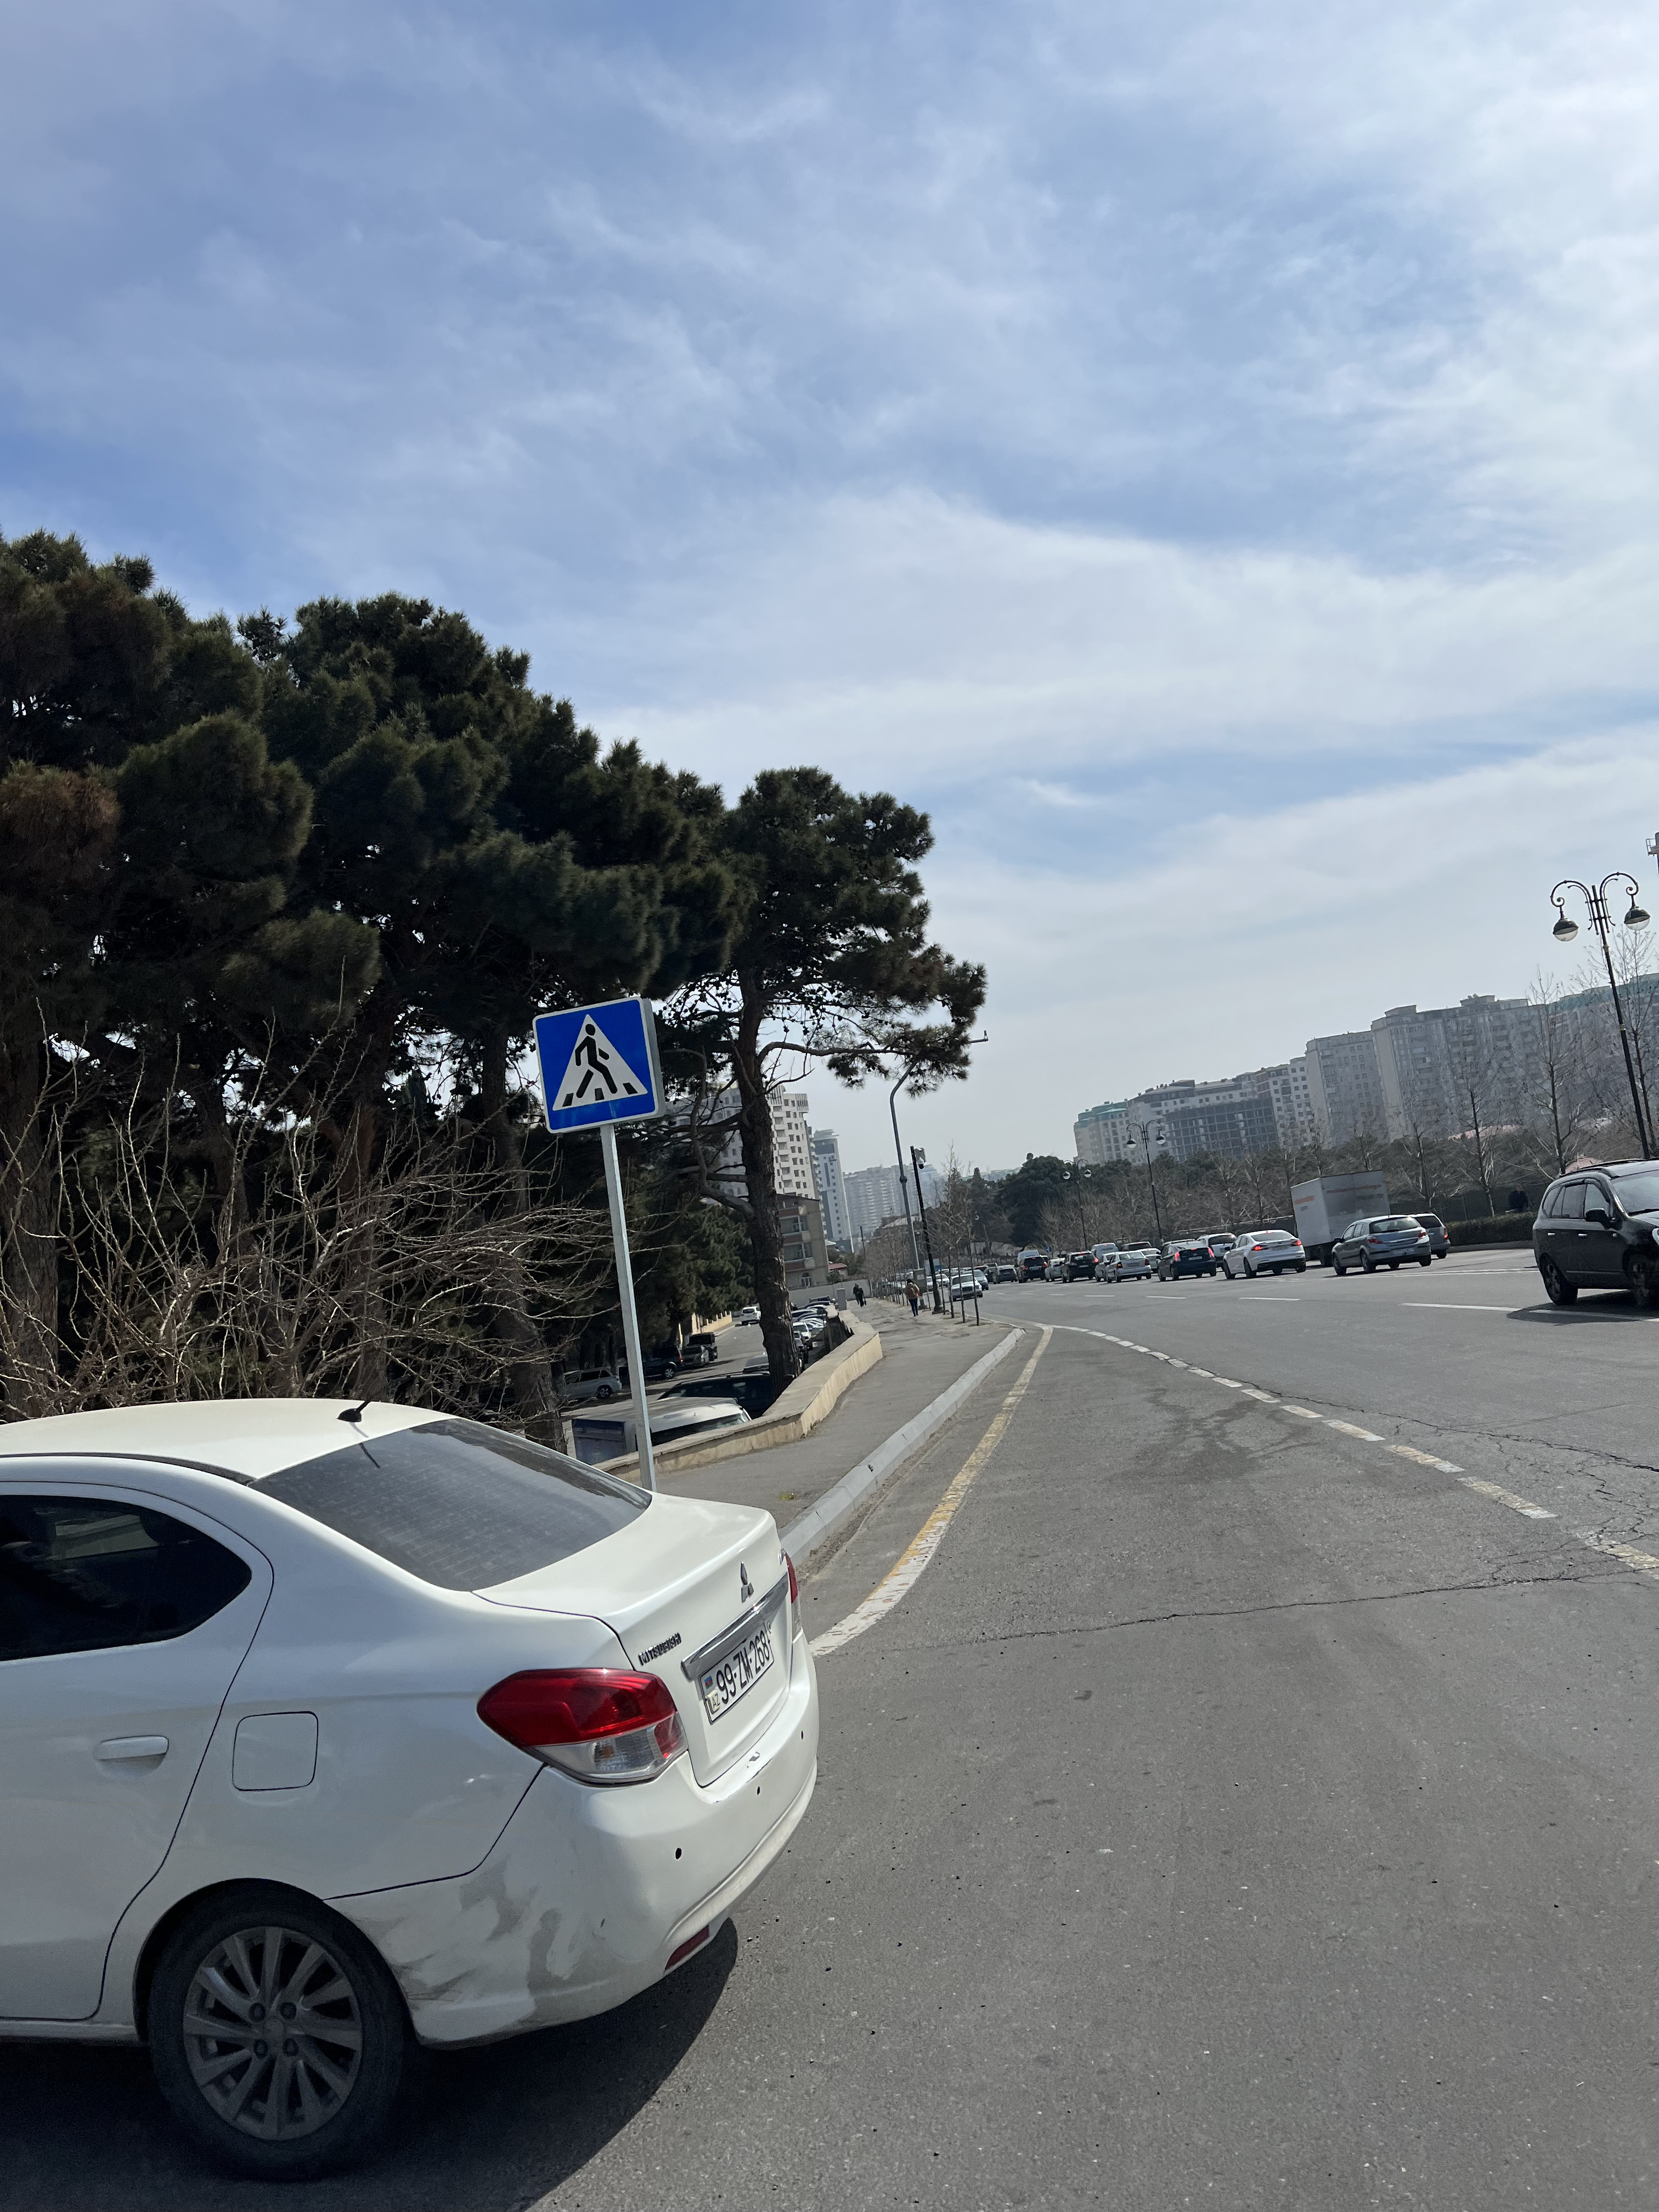Pedestrian Crossing: (544, 993, 659, 1127)
